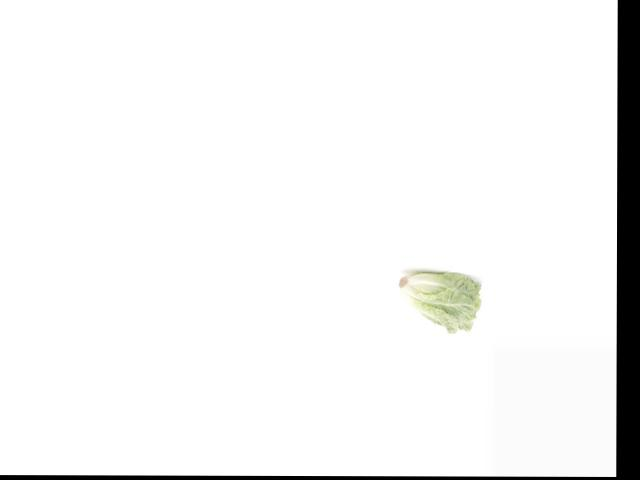lettuce: (394, 269, 481, 334)
